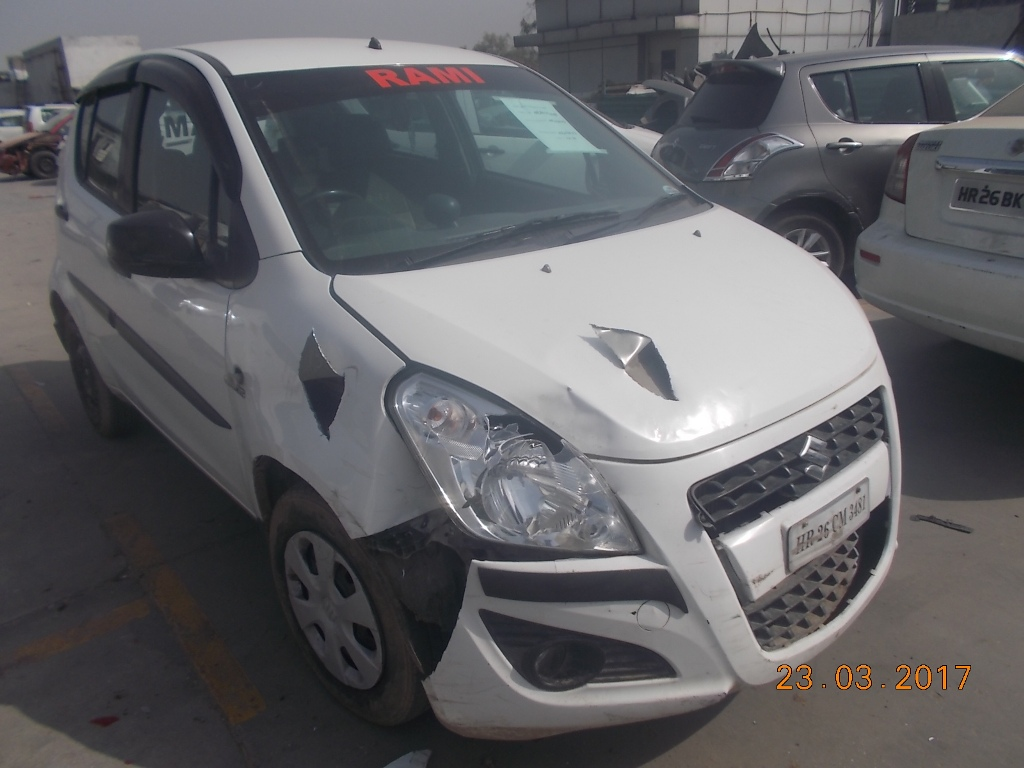Dent: (546, 384, 586, 426), (592, 415, 613, 443)
Tear: (420, 559, 507, 697), (595, 314, 679, 411), (295, 330, 352, 437)
